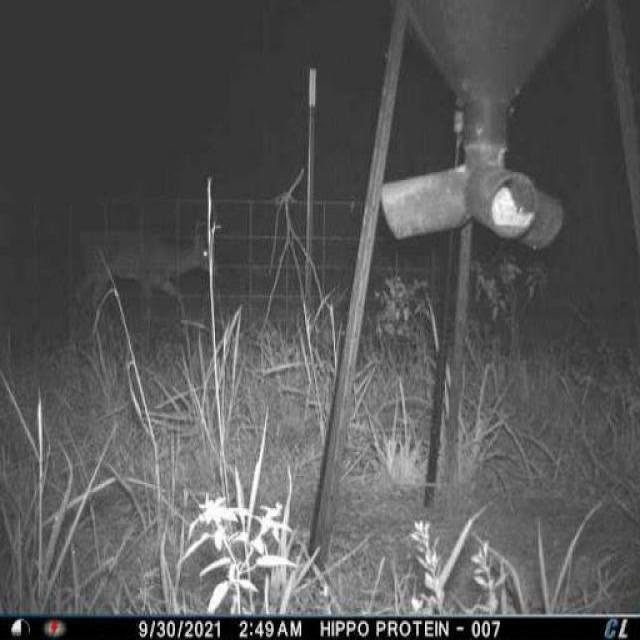deer: (72, 201, 222, 336)
